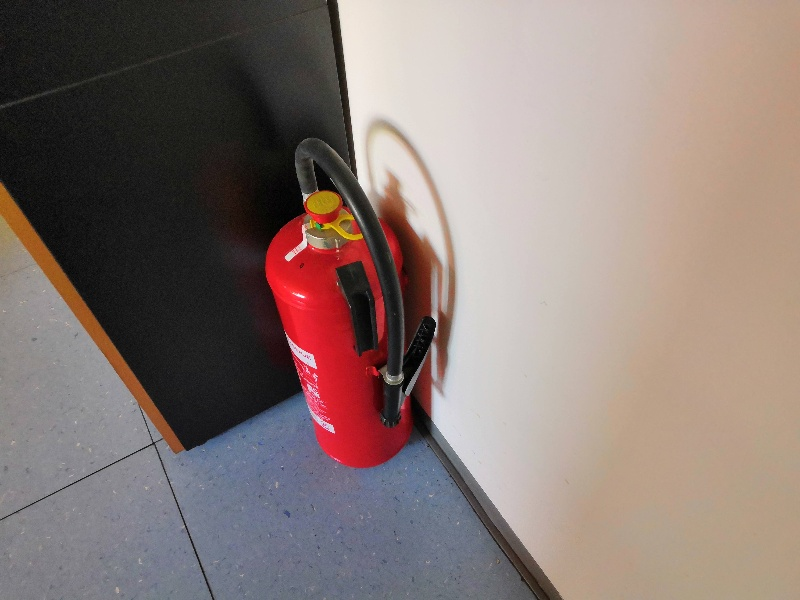vataparat: (266, 141, 434, 467)
